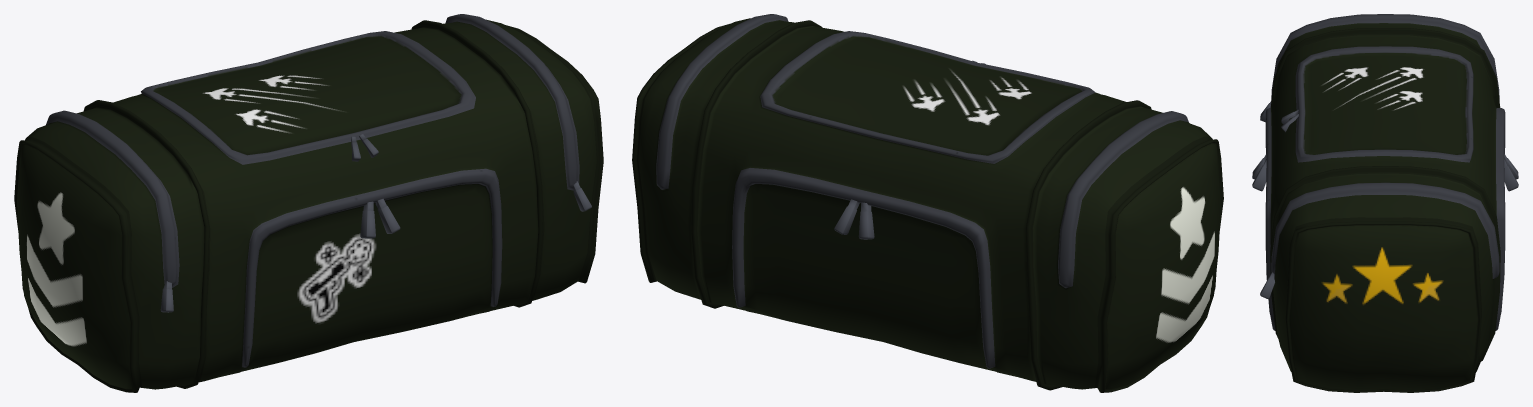
File: Bolsa.fbx
The picture shows the model from 3 angles, left to right: view 1: azimuth 30°, elevation 25°; view 2: azimuth 150°, elevation 25°; view 3: azimuth 270°, elevation 25°; orthographic projection. The views are drawn at different scales.
Parts seen in each view (by area): view 1: Bolsa; view 2: Bolsa; view 3: Bolsa.
Boxes of the visible parts, x1,y1,x2,y2 form: Bolsa: (14, 14, 603, 392); Bolsa: (632, 14, 1223, 392); Bolsa: (1252, 14, 1518, 392).
Bounding box in the file's own units: 71.76 × 31.87 × 36.64.
